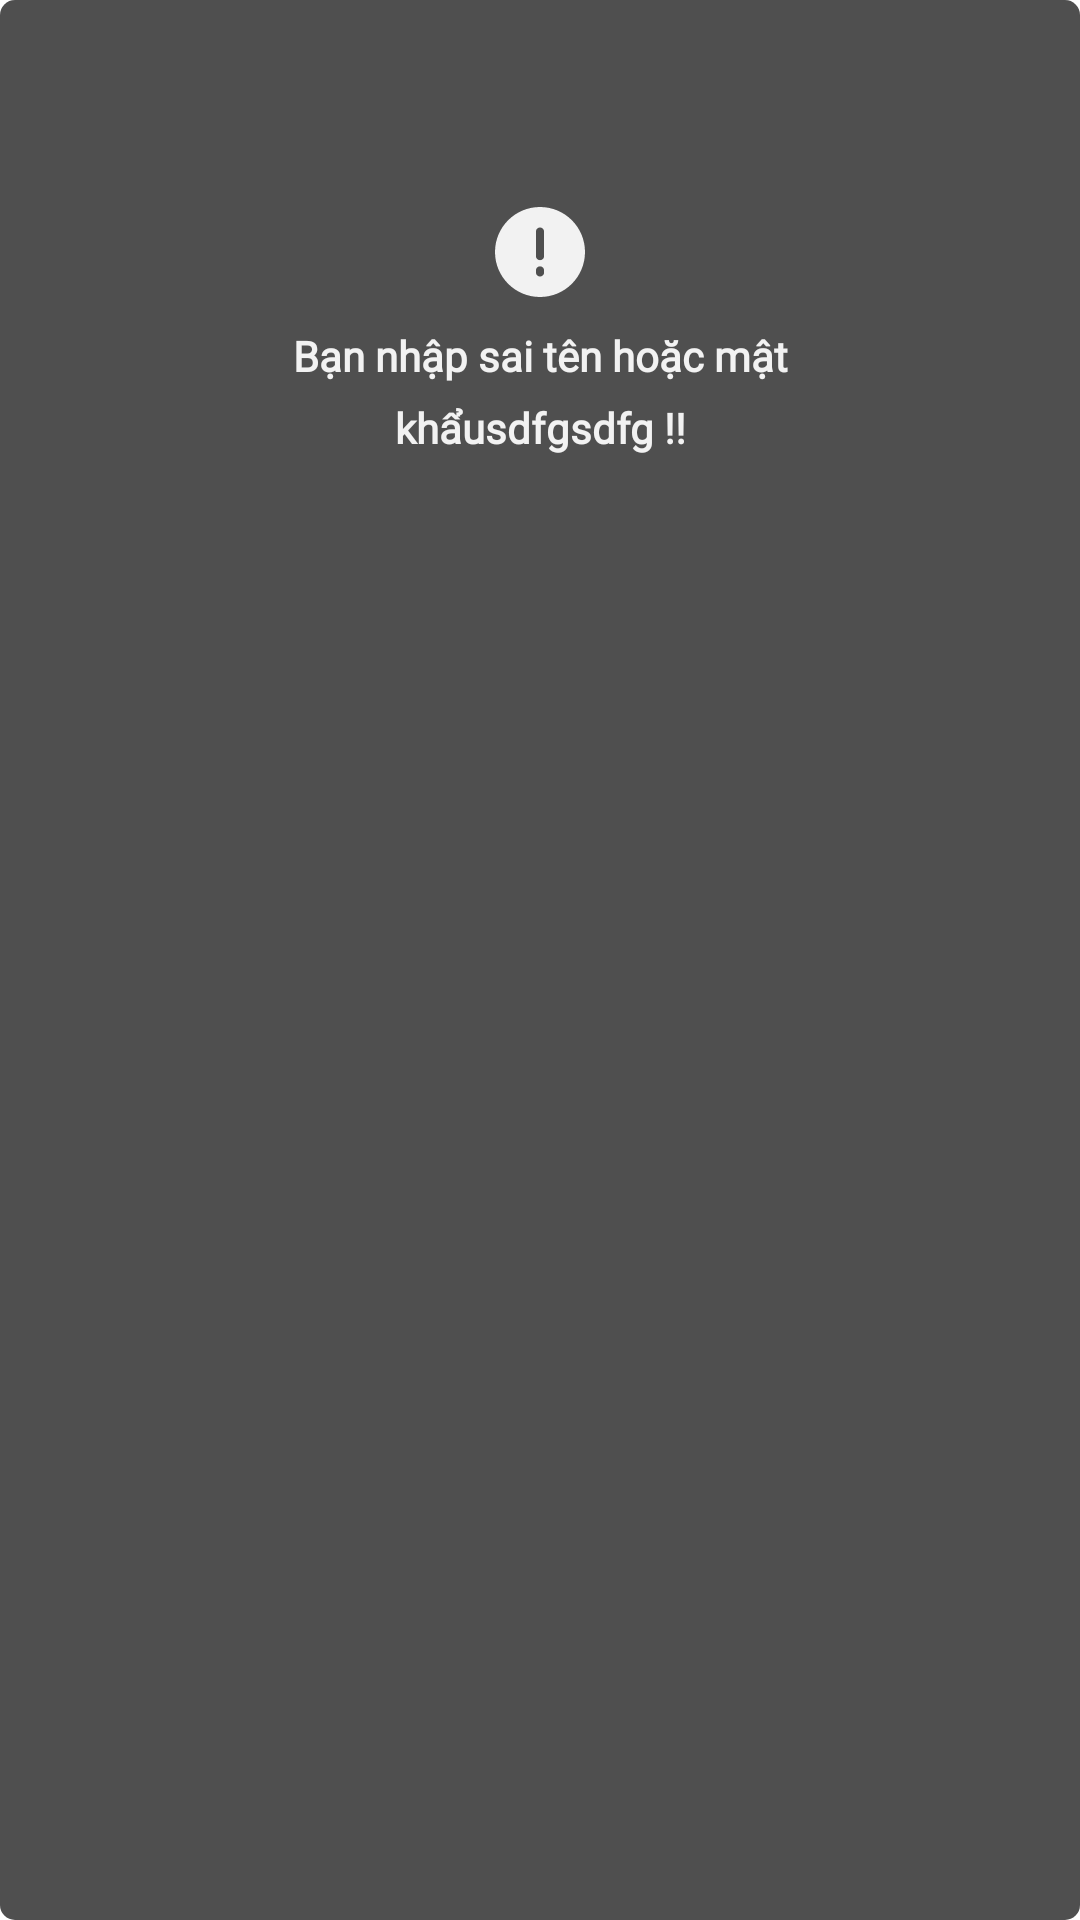

Icon bounding boxes for this 1080px×1920px phone screenshot, format (x1, y1, x2, y2):
alert toast: (495, 207, 585, 297)
